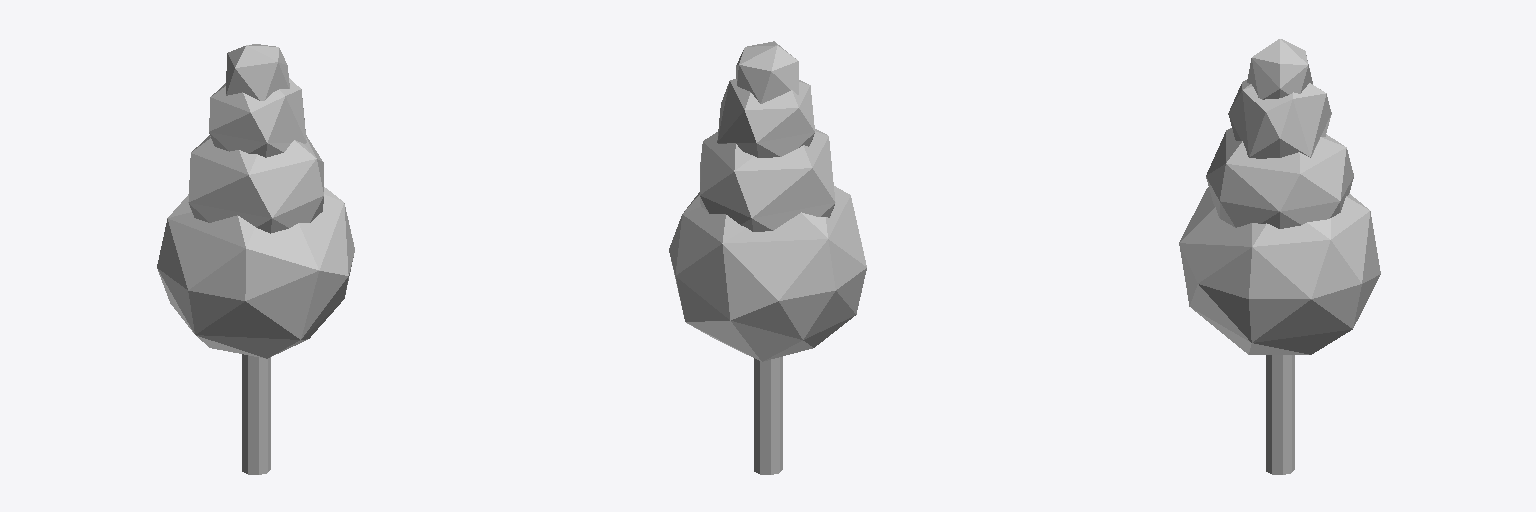
Rendered from Simple_Tree_7_Winter.obj.
3 views of the same model, side by side, from view 1: azimuth 30°, elevation 25°; view 2: azimuth 150°, elevation 25°; view 3: azimuth 270°, elevation 25° (orthographic).
Visible parts, largest first — view 1: Simple_Tree_7_Winter_Cylinder.051; view 2: Simple_Tree_7_Winter_Cylinder.051; view 3: Simple_Tree_7_Winter_Cylinder.051.
Part boxes in pixels (x1,y1,x2,y2): Simple_Tree_7_Winter_Cylinder.051: (157,44,354,474); Simple_Tree_7_Winter_Cylinder.051: (669,41,866,474); Simple_Tree_7_Winter_Cylinder.051: (1179,39,1380,474).
Size of the model in its own units: 3.07 by 7.47 by 3.21.